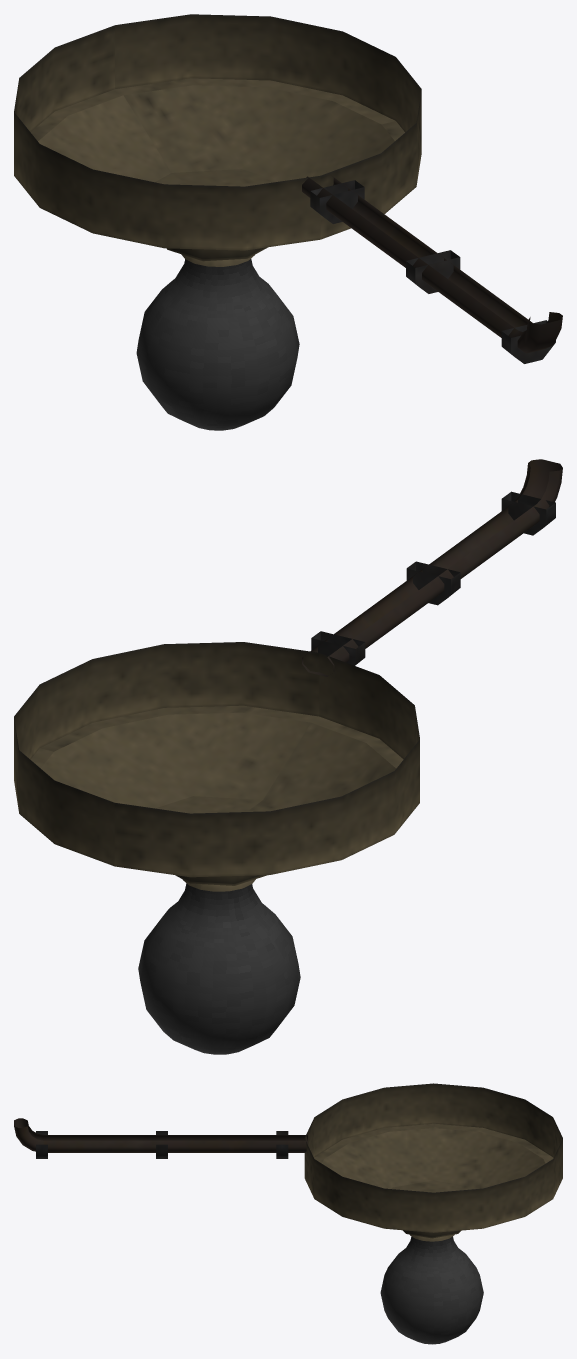
Rendered from ceiling_lamp_mp_1_1_off.obj.
The picture shows the model from 3 angles, top to bottom: view 1: azimuth 30°, elevation 25°; view 2: azimuth 150°, elevation 25°; view 3: azimuth 270°, elevation 25°; orthographic projection. The views are drawn at different scales.
Visible parts, largest first — view 1: ceiling_lamp_mp_1_1_off; view 2: ceiling_lamp_mp_1_1_off; view 3: ceiling_lamp_mp_1_1_off.
Boxes of the visible parts, bbox=[...] form: ceiling_lamp_mp_1_1_off: bbox=[14, 14, 562, 430]; ceiling_lamp_mp_1_1_off: bbox=[14, 459, 562, 1054]; ceiling_lamp_mp_1_1_off: bbox=[14, 1083, 562, 1344].
Size of the model in its own units: 0.215 by 0.1988 by 0.4568.
